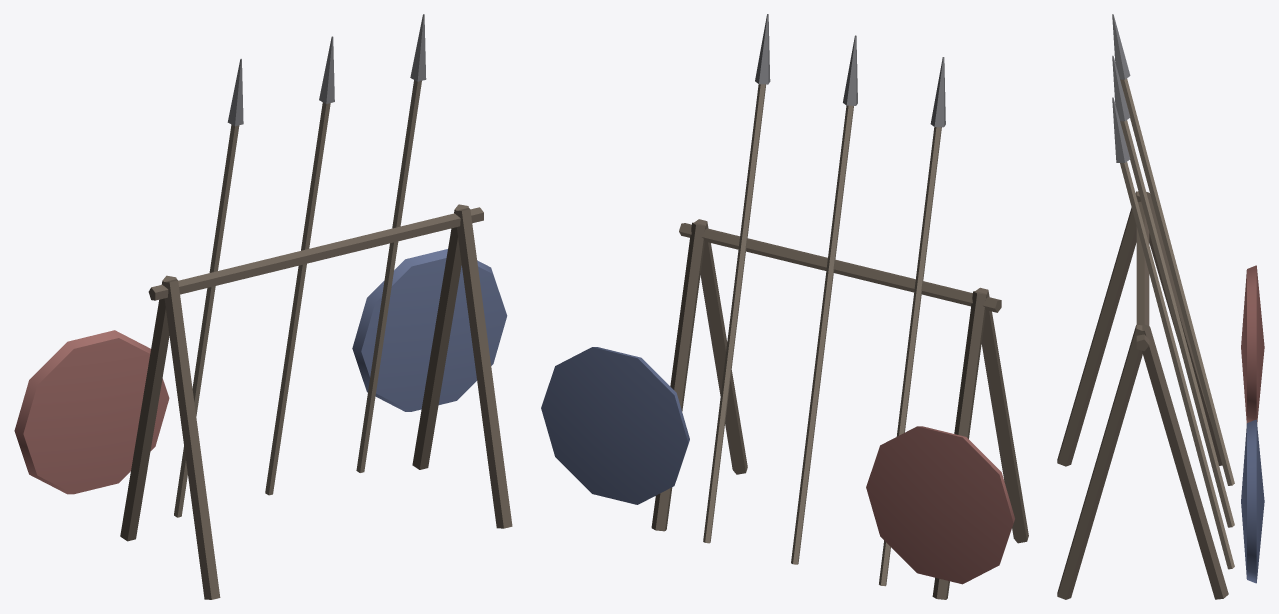
The model's file is weapon_rack.gltf.
3 views of the same model, side by side, from view 1: azimuth 30°, elevation 25°; view 2: azimuth 150°, elevation 25°; view 3: azimuth 270°, elevation 25° (orthographic). The views are drawn at different scales.
Parts seen in each view (by area): view 1: Body; view 2: Body; view 3: Body.
Boxes of the visible parts, x1,y1,x2,y2 form: Body: (14,14,512,599); Body: (541,14,1028,599); Body: (1057,14,1264,599).
Bounding box in the file's own units: 2.69 × 2.66 × 1.05.
